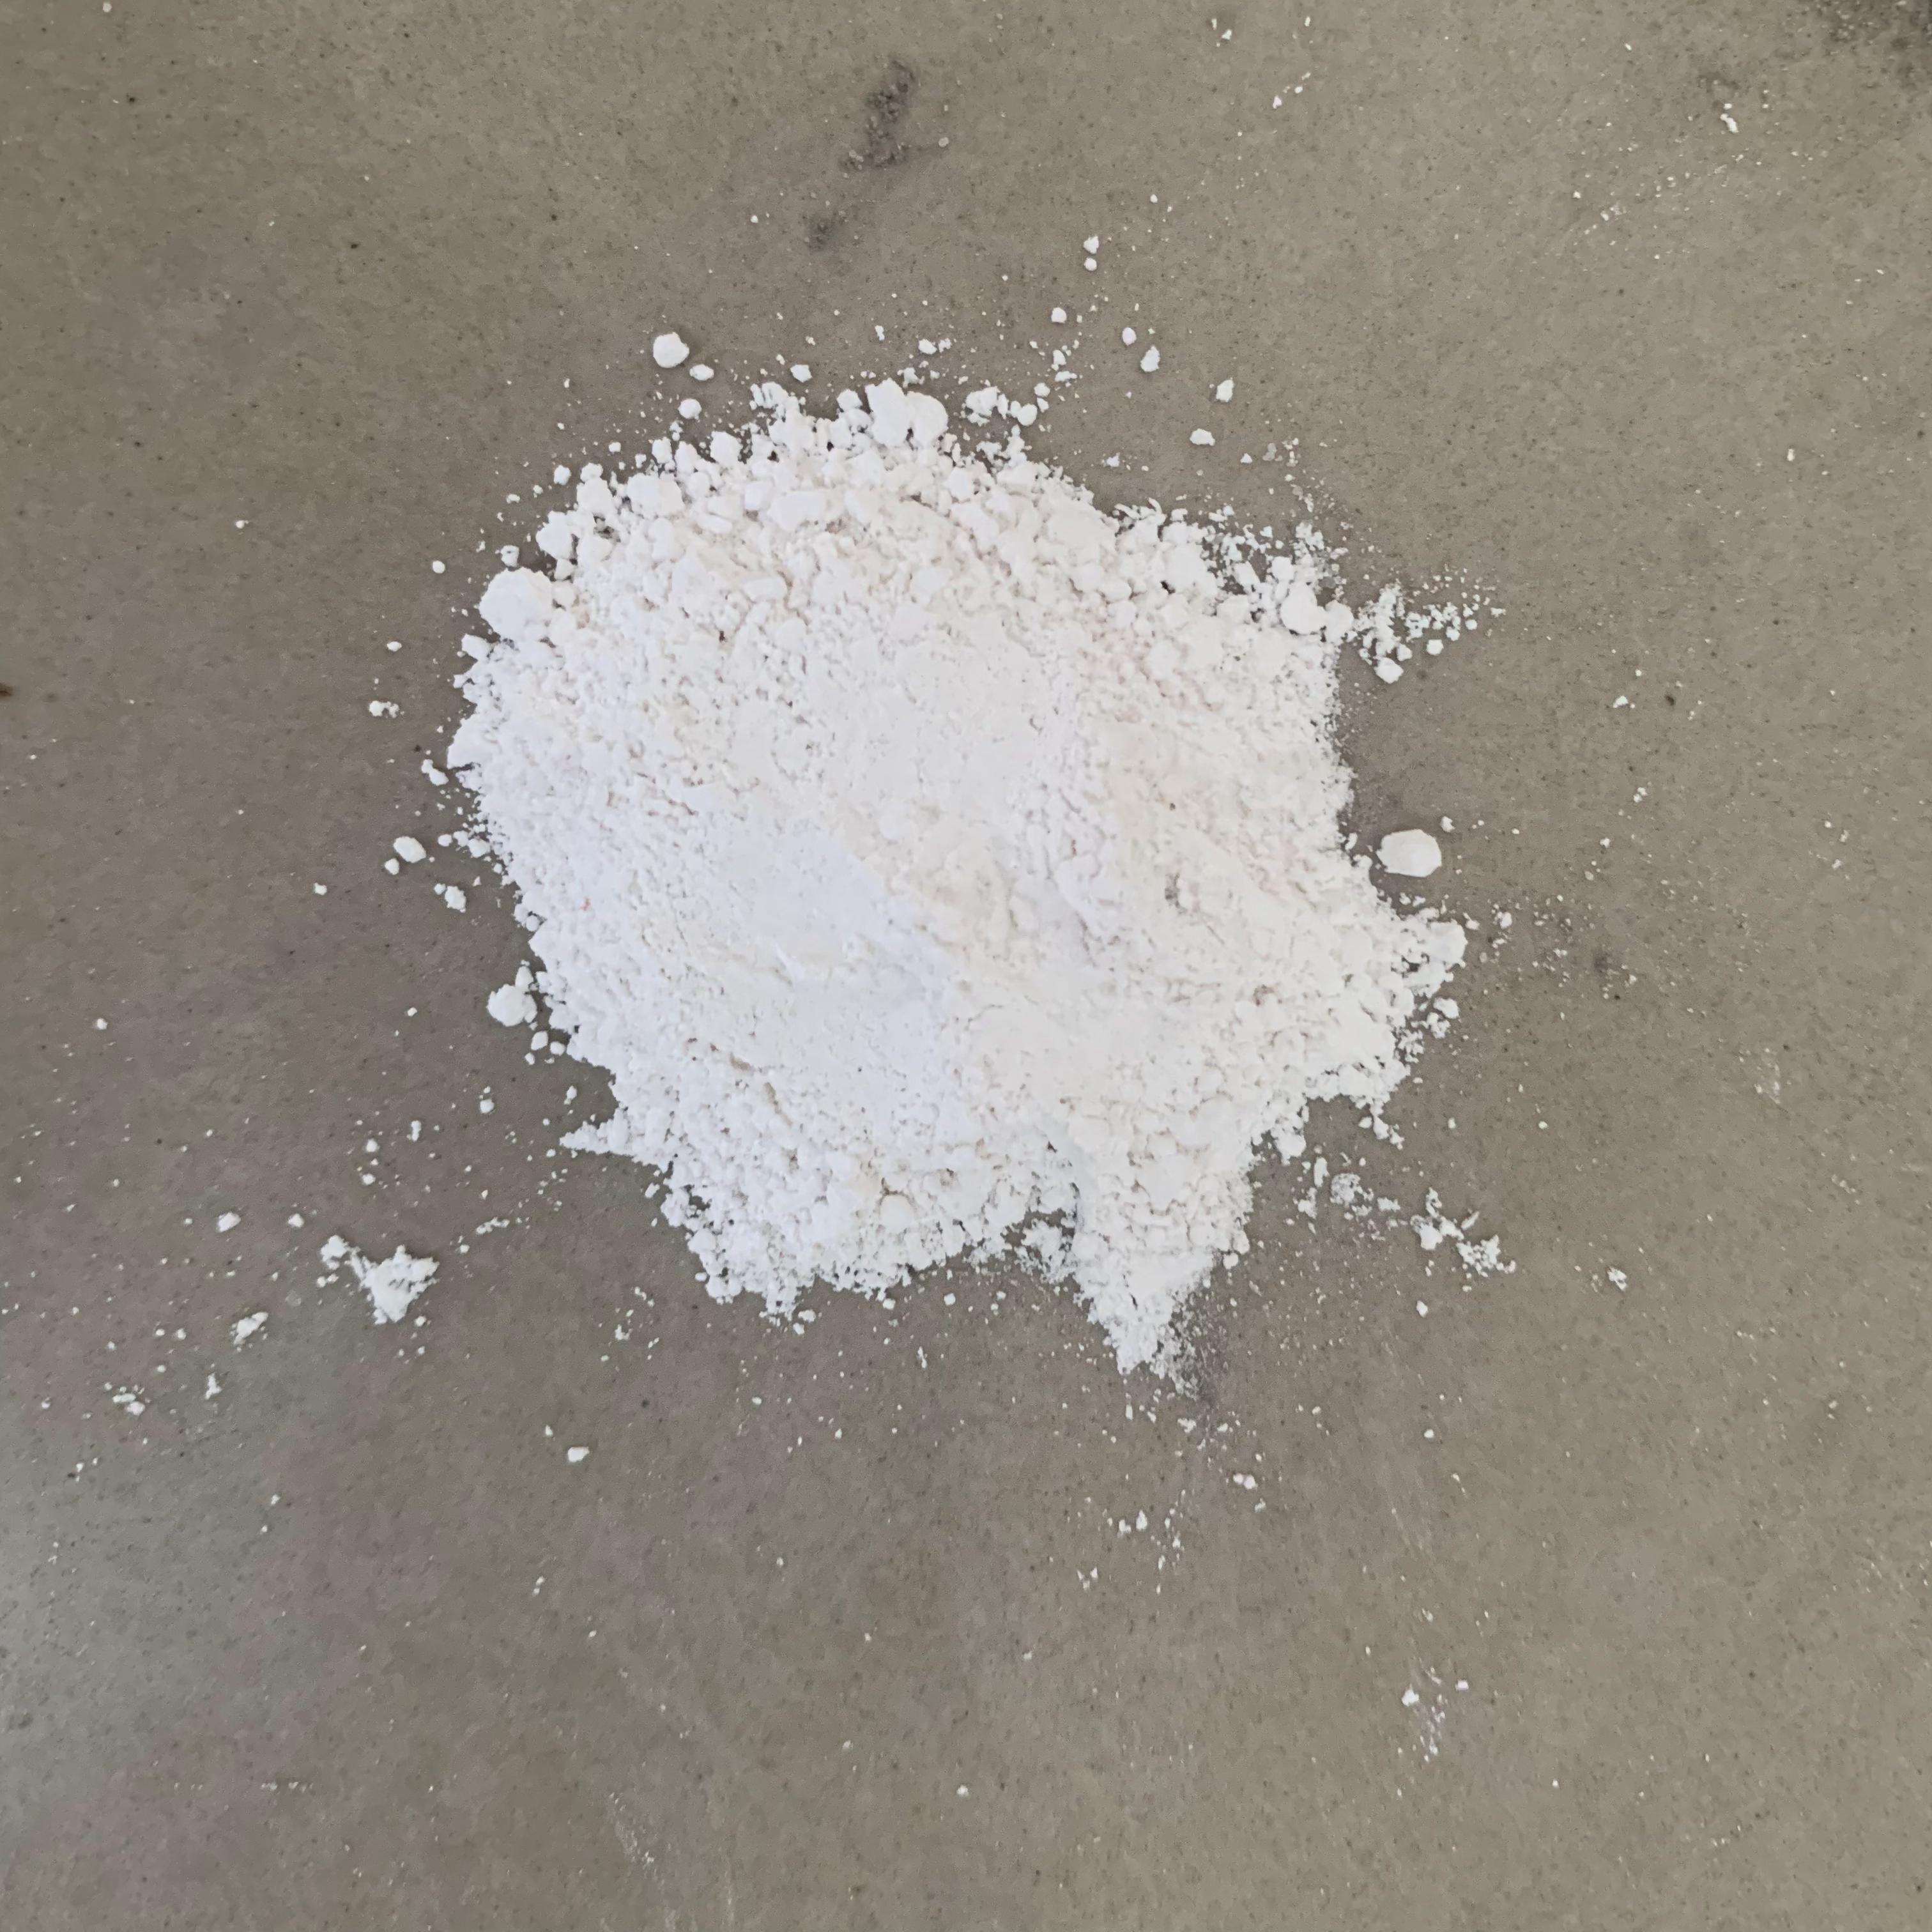ash pile: (444, 379, 1460, 1378), (313, 1235, 437, 1325)
